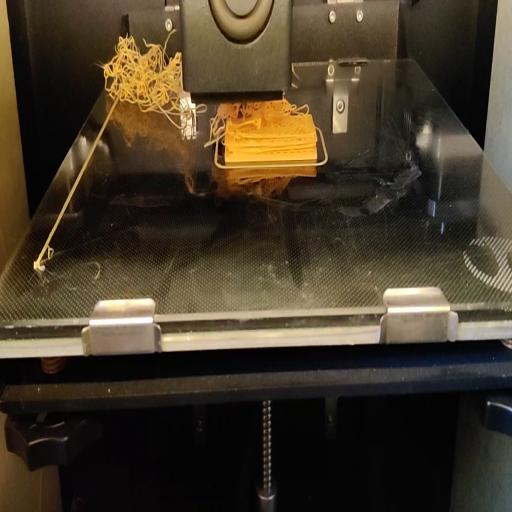spaghetti: (100, 27, 182, 130), (208, 99, 292, 137), (180, 103, 204, 127)
